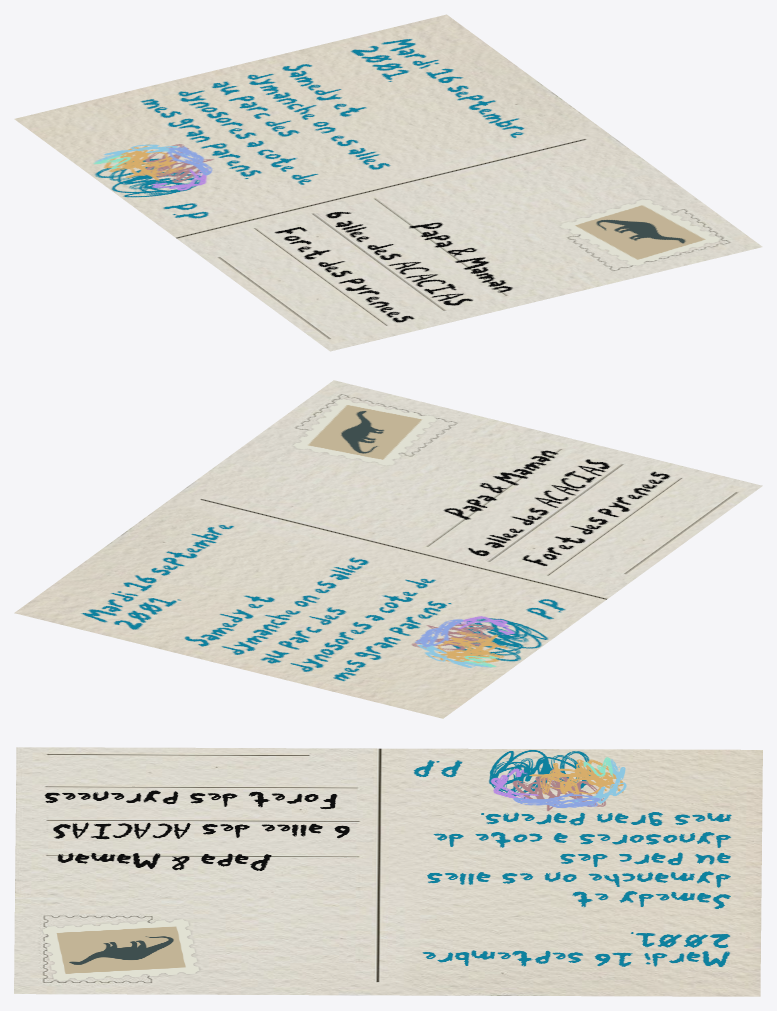
The model's file is post_card.glb.
3 views of the same model, one above another, from view 1: azimuth 30°, elevation 25°; view 2: azimuth 150°, elevation 25°; view 3: azimuth 270°, elevation 25° (orthographic). The views are drawn at different scales.
Visible parts, largest first — view 1: SurfacePlane; view 2: SurfacePlane; view 3: SurfacePlane.
Part boxes in pixels (x1,y1,x2,y2): SurfacePlane: (14, 14, 762, 351); SurfacePlane: (14, 380, 762, 718); SurfacePlane: (14, 747, 762, 996).
Size of the model in its own units: 0.1727 by 0.000467 by 0.2203.
1 material, 1 textured.
